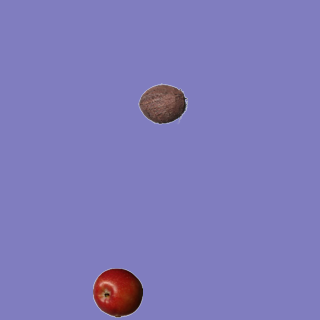Apple Braeburn: (92, 267, 142, 317)
Cocos: (137, 78, 187, 128)
